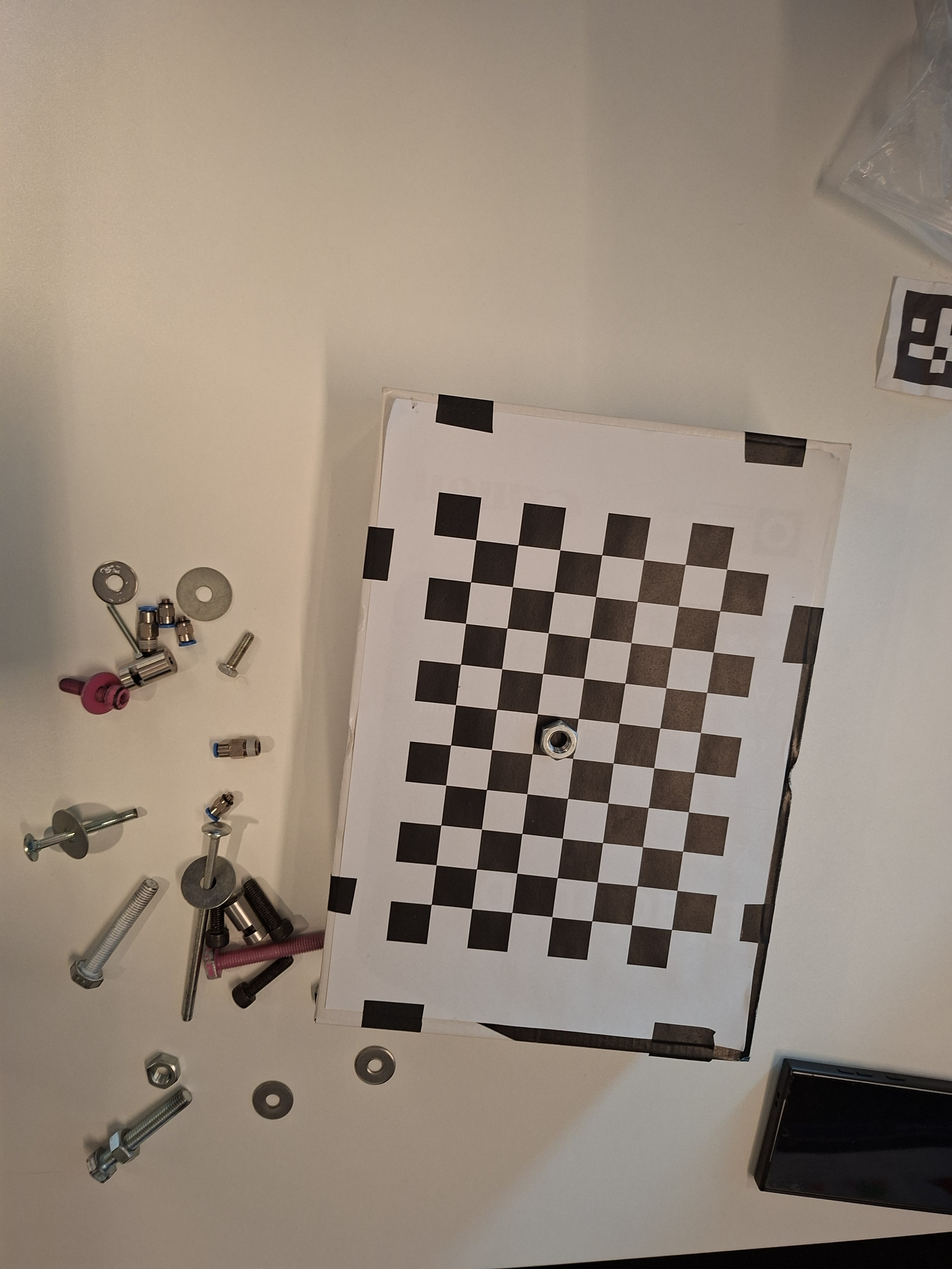hex_nut: (530, 711, 590, 767)
